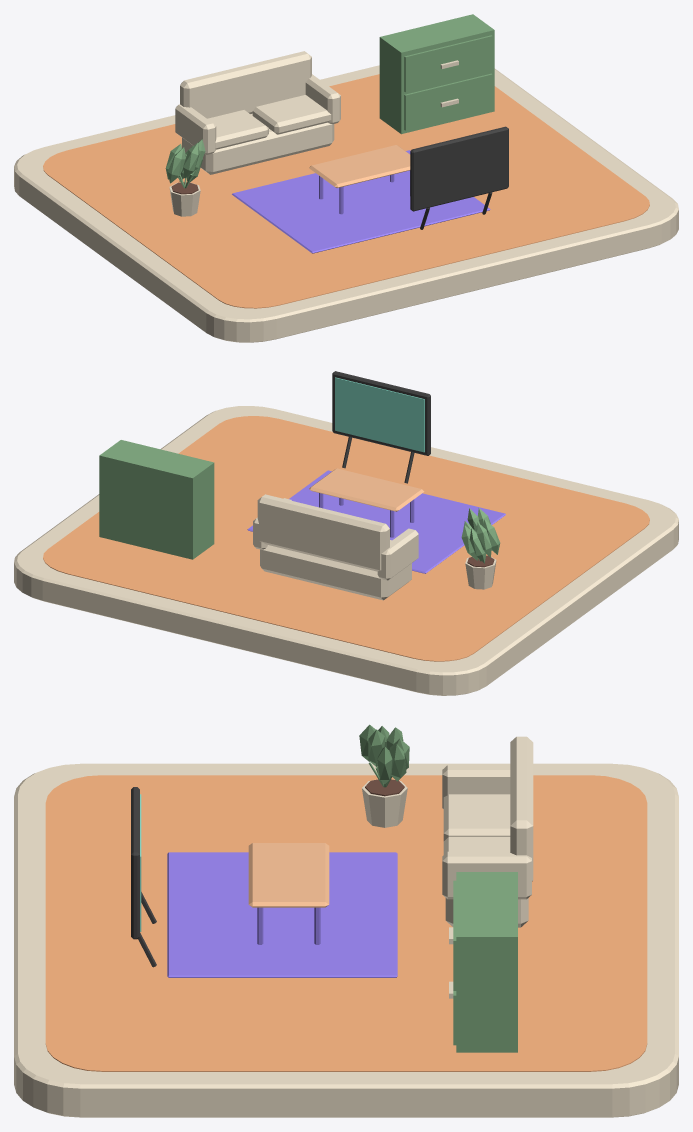
The model's file is room.fbx.
3 renders of one model, top to bottom at view 1: azimuth 30°, elevation 25°; view 2: azimuth 150°, elevation 25°; view 3: azimuth 270°, elevation 25°, orthographic. The views are drawn at different scales.
Visible parts, largest first — view 1: COM-02 Floor Surface, COM-01 Rounded Base Direct, Cabinet, Rug, TV frame, Back, Base, Rounded table top, Pot, Seat cushion.001, Seat cushion, Arm (+1 smaller); view 2: COM-02 Floor Surface, COM-01 Rounded Base Direct, Cabinet, Back, Rug, Screen, Base, Rounded table top, Pot, TV frame, Arm; view 3: COM-02 Floor Surface, COM-01 Rounded Base Direct, Rug, Cabinet, Rounded table top, Pot, Seat cushion, Back, Arm.001, Arm, TV frame, Seat cushion.001.
Boxes of the visible parts, box(x1,y1,x2,y2) form: COM-02 Floor Surface: box(43, 74, 649, 308); COM-01 Rounded Base Direct: box(14, 65, 678, 342); Cabinet: box(379, 14, 494, 134); Rug: box(232, 150, 490, 253); TV frame: box(410, 126, 508, 211); Back: box(180, 51, 311, 118); Base: box(182, 113, 334, 174); Rounded table top: box(309, 145, 410, 187); Pot: box(165, 139, 205, 216); Seat cushion.001: box(252, 95, 331, 134); Seat cushion: box(207, 110, 268, 149); Arm: box(175, 104, 216, 154); COM-02 Floor Surface: box(43, 416, 649, 661); COM-01 Rounded Base Direct: box(14, 406, 678, 695); Cabinet: box(99, 440, 214, 559); Back: box(257, 494, 389, 571); Rug: box(247, 470, 505, 573); Screen: box(335, 377, 424, 452); Base: box(260, 545, 411, 600); Rounded table top: box(309, 468, 424, 511); Pot: box(461, 508, 500, 589); TV frame: box(332, 371, 430, 455); Arm: box(377, 528, 418, 580); COM-02 Floor Surface: box(45, 775, 647, 1071); COM-01 Rounded Base Direct: box(14, 763, 678, 1117); Rug: box(167, 852, 397, 977); Cabinet: box(449, 872, 517, 1052); Rounded table top: box(248, 843, 329, 907); Pot: box(359, 724, 409, 827); Seat cushion: box(443, 794, 510, 840); Back: box(510, 736, 533, 881); Arm.001: box(442, 851, 531, 899); Arm: box(442, 765, 510, 808); TV frame: box(131, 787, 139, 939); Seat cushion.001: box(443, 837, 510, 854).
Size of the model in its own units: 600 by 142 by 520.
